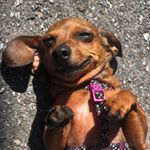puppy: (2, 16, 150, 149)
